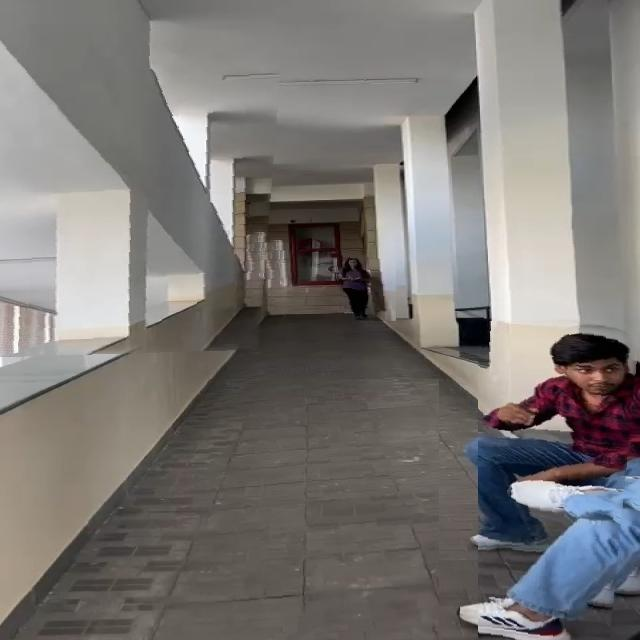floor: (198, 379, 439, 640)
moving_object: (478, 314, 640, 640), (334, 248, 396, 321)
wall: (0, 29, 285, 358)
